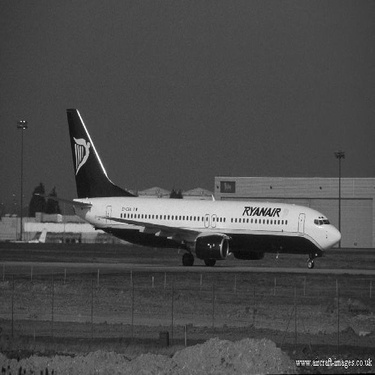airplane: (25, 93, 350, 267)
